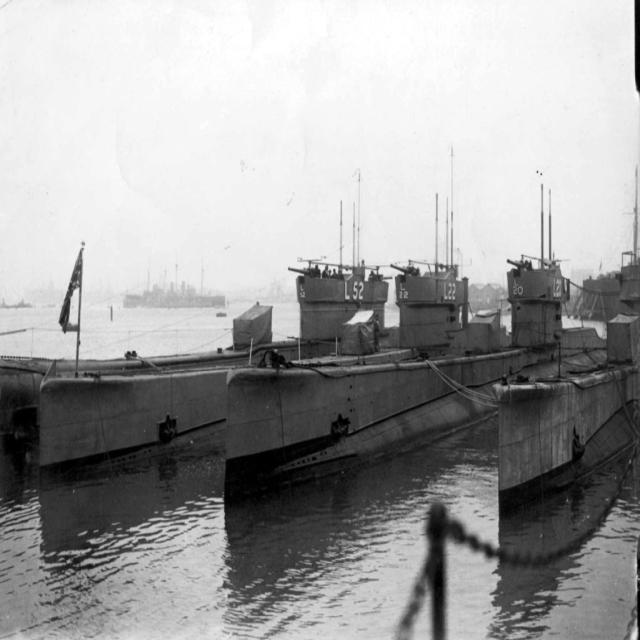Boat: (0, 141, 640, 520), (506, 177, 570, 351), (124, 266, 227, 310)
